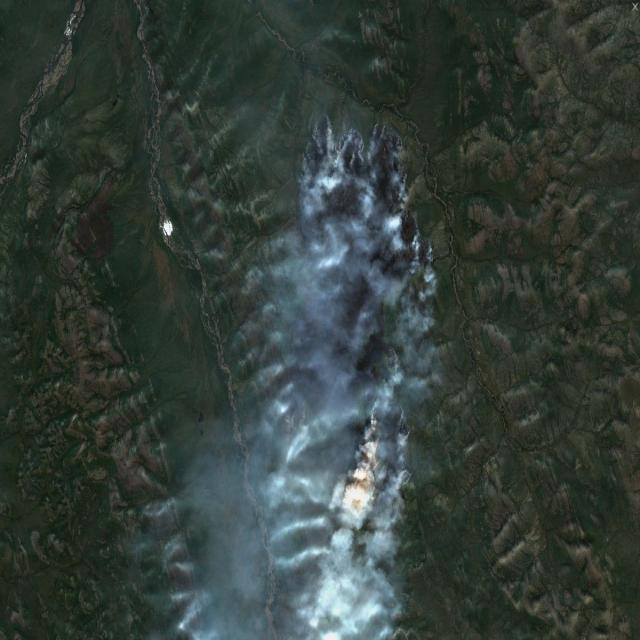fire: (278, 103, 440, 500)
